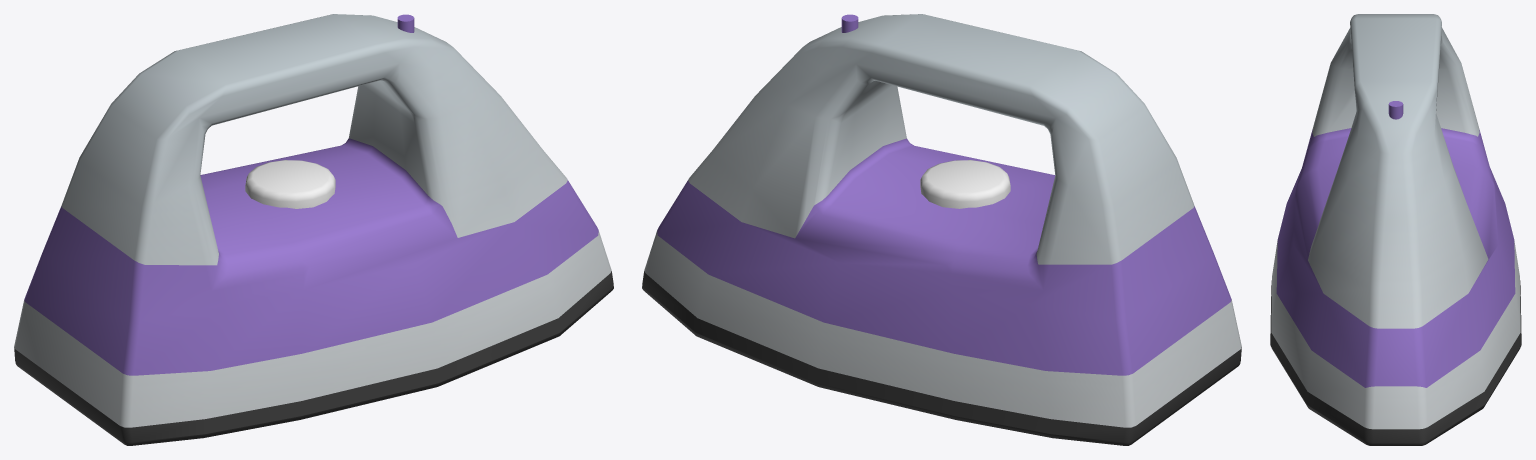
The model's file is ironAction.fbx.
3 views of the same model, side by side, from view 1: azimuth 30°, elevation 25°; view 2: azimuth 150°, elevation 25°; view 3: azimuth 270°, elevation 25° (orthographic). The views are drawn at different scales.
Visible parts, largest first — view 1: iron; view 2: iron; view 3: iron.
Part boxes in pixels (left/top/right/bottom): iron: left=14, top=14, right=613, bottom=445; iron: left=642, top=14, right=1241, bottom=445; iron: left=1270, top=14, right=1521, bottom=445.
Size of the model in its own units: 0.4781 by 0.2657 by 0.2288.
Materials: 1 (1 with a texture image).
